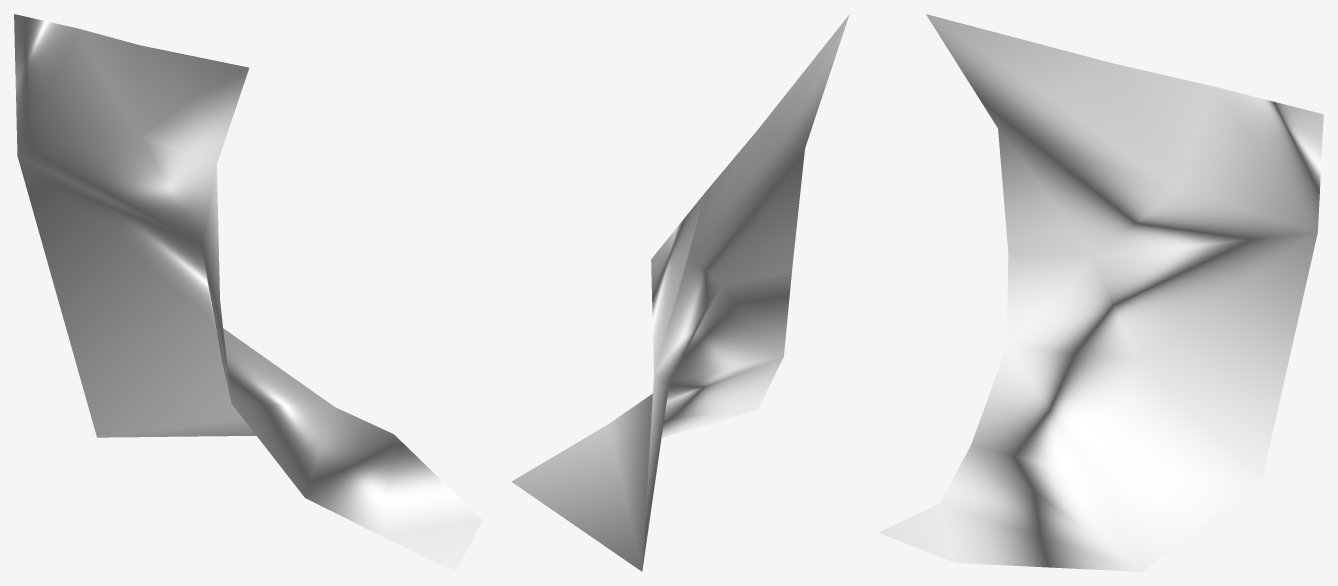
File: SM_Env_SpiderWeb_03.fbx
3 renders of one model, left to right at view 1: azimuth 30°, elevation 25°; view 2: azimuth 150°, elevation 25°; view 3: azimuth 270°, elevation 25°, orthographic. The views are drawn at different scales.
Parts seen in each view (by area): view 1: SM_Env_SpiderWeb_03; view 2: SM_Env_SpiderWeb_03; view 3: SM_Env_SpiderWeb_03.
Boxes of the visible parts, x1,y1,x2,y2 form: SM_Env_SpiderWeb_03: (14,14,482,571); SM_Env_SpiderWeb_03: (511,14,849,571); SM_Env_SpiderWeb_03: (878,14,1323,571).
Size of the model in its own units: 254 by 468 by 425.
